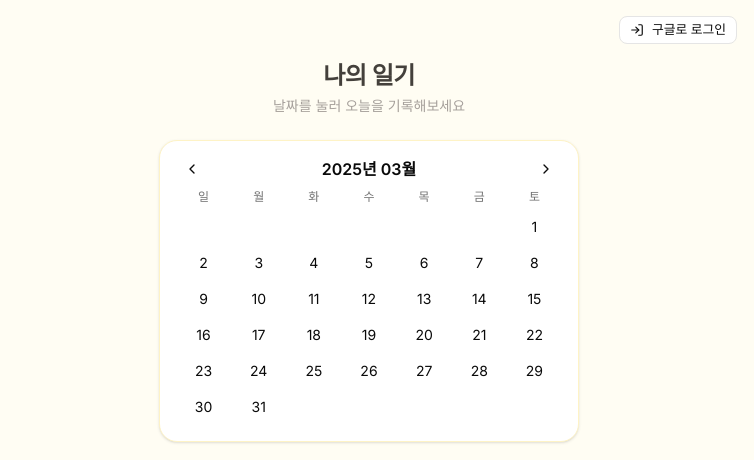
Scenario: DIARY-012: 빈 내용으로 저장 시도 시 저장 차단 › 텍스트 영역이 비어 있는 상태에서 저장 버튼을 클릭하면 '내용을 입력해 주세요' 안내 문구가 표시되고 작성 화면이 유지된다
The width and height of the screenshot is (754, 460).
Note: 일기 작성 화면으로 이동
Click the button "19". click: (369, 335)
box: [353,319,385,351]
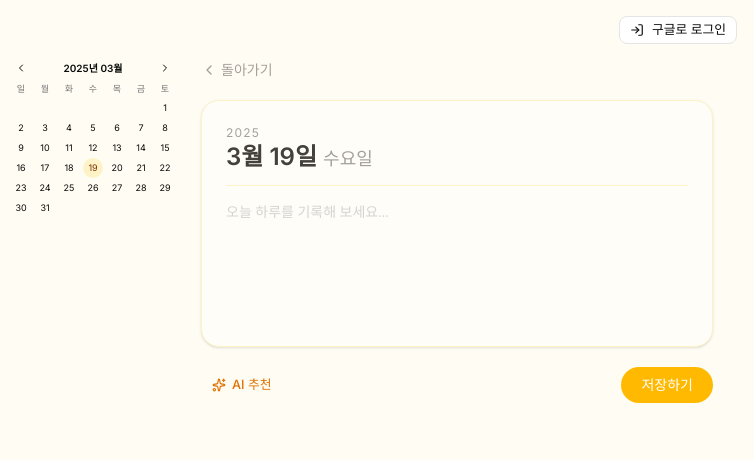
Note: 내용 입력 없이 저장 버튼 클릭
Click the button "저장하기". click: (667, 385)
box: [622,367,713,403]
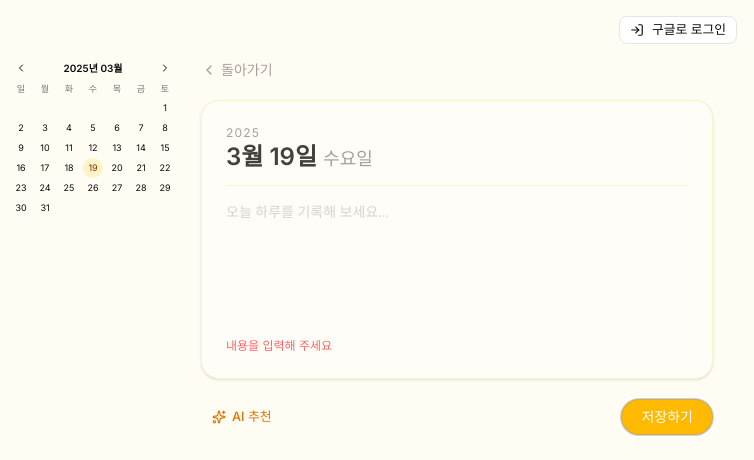
Now the text box is shown, box [226,202,688,322]
Now the text "내용을 입력해 주세요" is shown, box [226,338,332,353]
